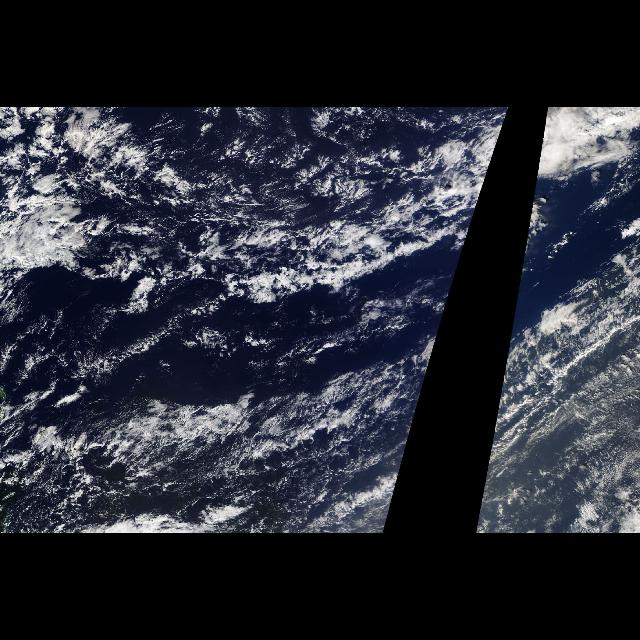Gravel: (15, 116, 455, 276)
